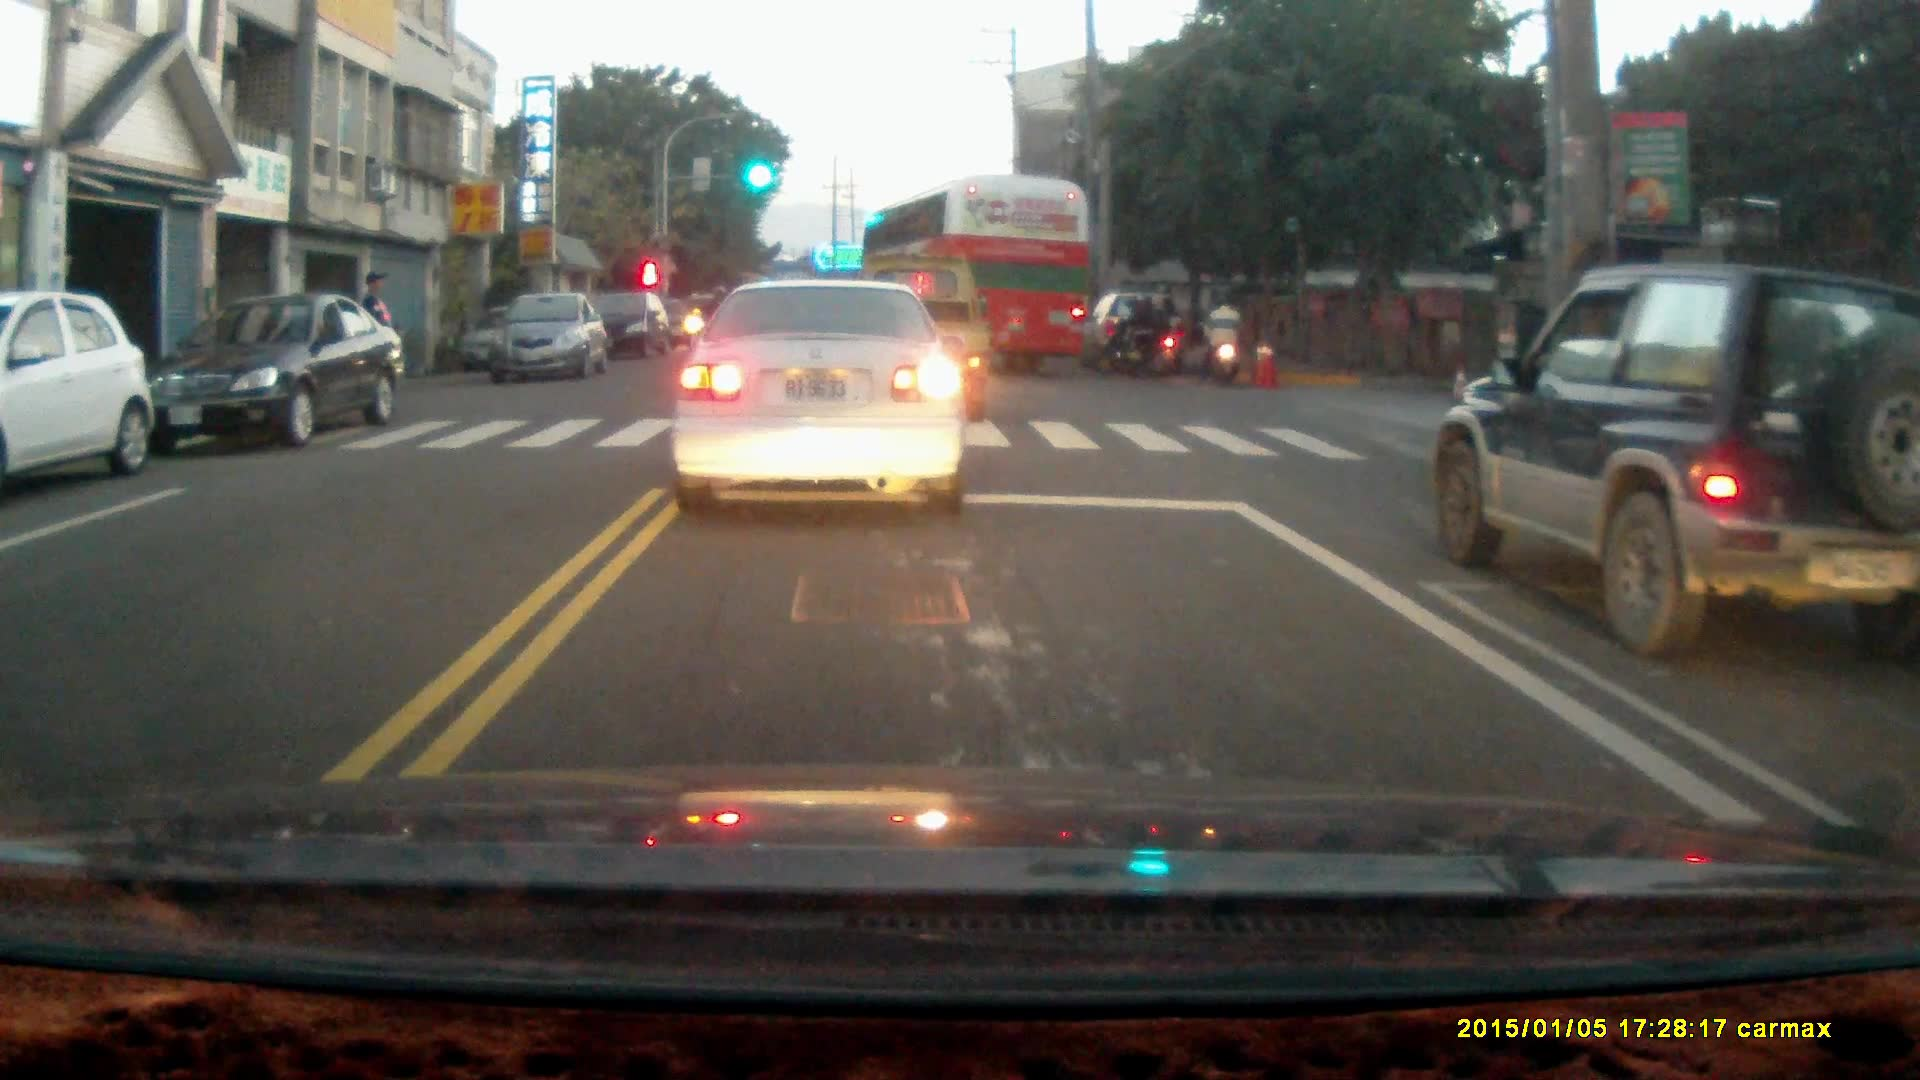pedestrian: (357, 269, 396, 404)
rider: (1093, 291, 1172, 377), (1190, 291, 1242, 388)
vehicle: (1434, 262, 1920, 661), (673, 277, 969, 521), (857, 172, 1094, 378), (135, 295, 411, 457), (1, 288, 154, 495), (478, 292, 613, 386), (1093, 290, 1201, 383), (591, 294, 676, 367)
